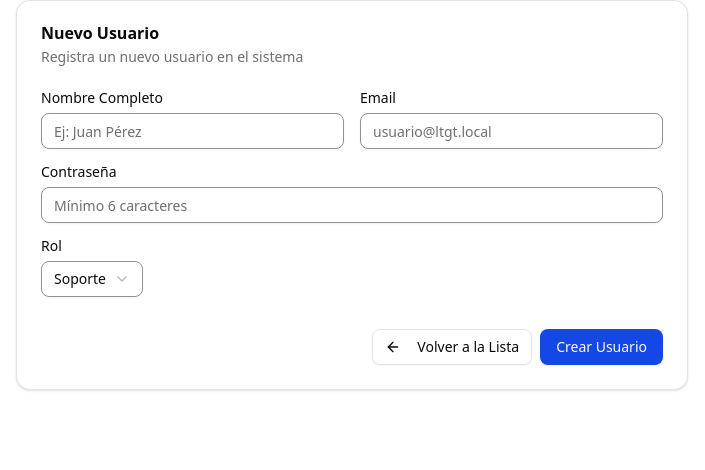
UserForm › shows the backend reason when saving fails
The image size is (705, 470).
Step 1. Type "Ana López" into the field labelled "Nombre Completo" → point(192, 131), box [41,113,344,149]
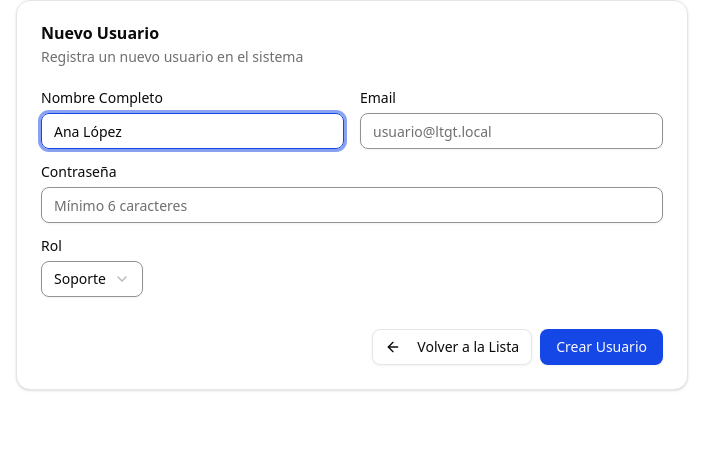
Step 2. Type "admin@ltgt.com" into the field labelled "Email" → point(512, 131), box [360,113,663,149]
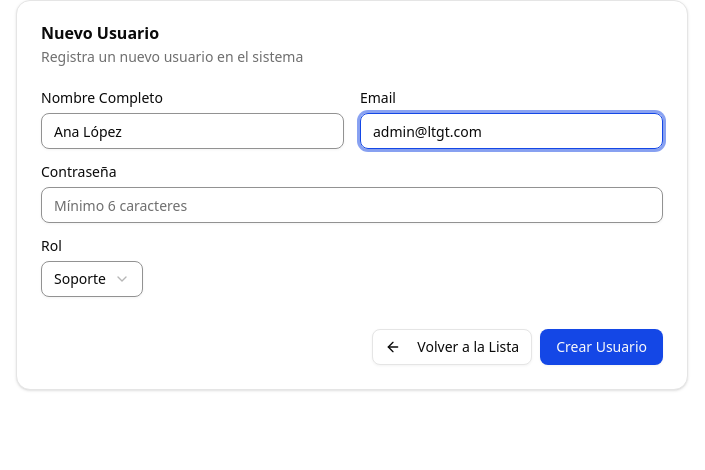
Step 3. Type "secret123" into the password field labelled "Contraseña" → point(352, 205), box [41,187,663,223]
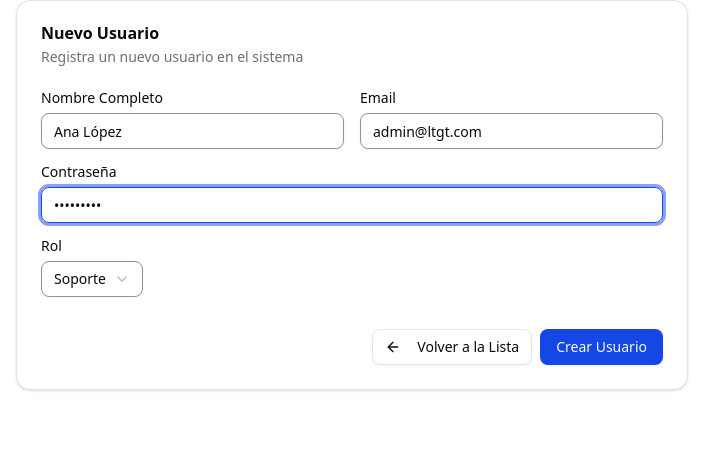
Step 4. Click the button "Crear Usuario" → point(602, 347), box [540,329,663,365]
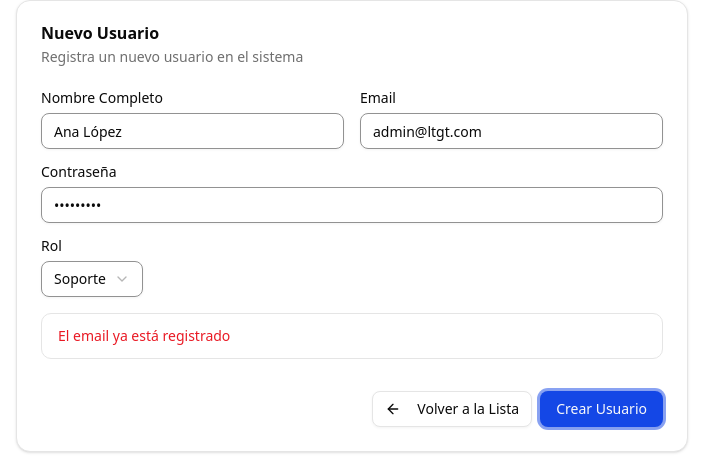
Expected: the text "El email ya está registrado" is shown, [58,326,230,345]
